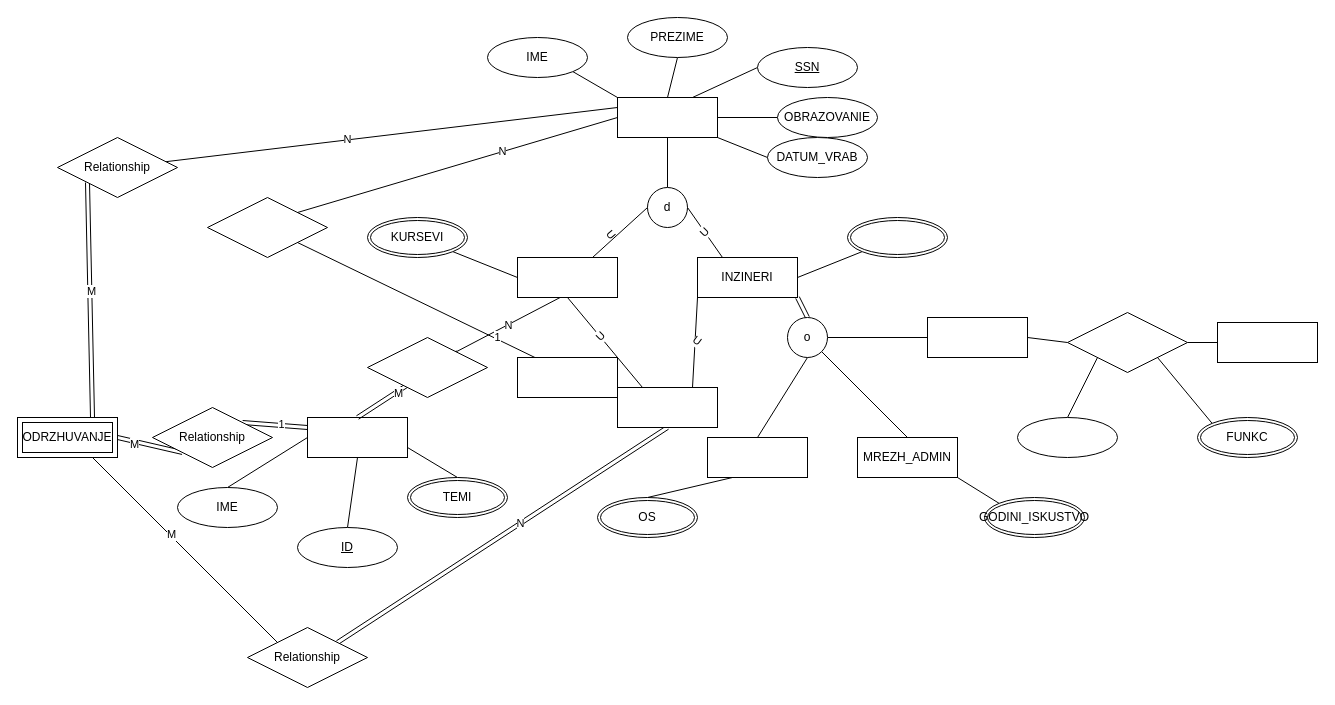
Some shapes in this 1335 by 705 pixel diagram are drawn without their labels. The centre of each missing label's shape, as x and y in pixels:
"Entity" goes at (567,377).
"KOMERCIJALISTI" goes at (567,277).
"MENADZER" goes at (667,407).
"PROGRAMER" goes at (977,337).
"RABOTILNICA" goes at (357,437).
"SIS_ADMIN" goes at (757,457).
"STEPEN_PODG" goes at (1067,437).
"STR_JAZICI" goes at (897,237).
"TEHNOLOGII" goes at (1267,342).
"VRABOTEN" goes at (667,117).
